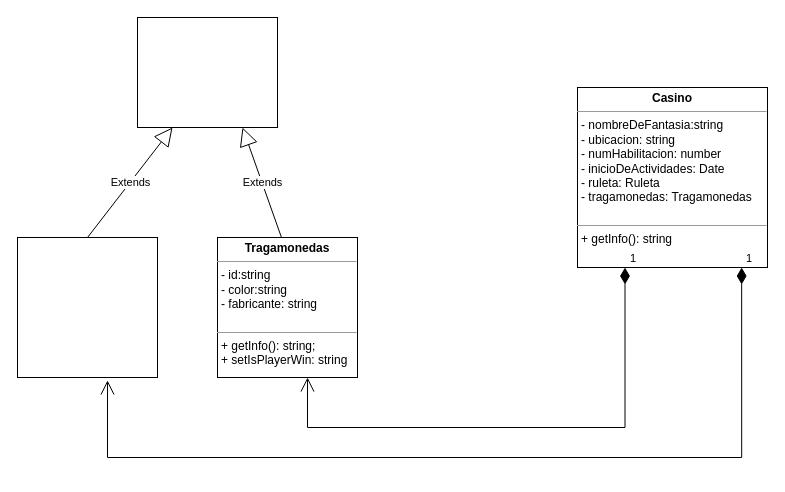
This 785x492 diagram has some shape labels left out. The centre of each missing label's shape, as x and y in pixels:
"JuegoDeCasino - id:string - fabricante:string + getInfo(): string;" belongs at (x=207, y=72).
"Ruleta - id: string - fabricante:string - premio:number + getInfo(): string;" belongs at (x=87, y=307).
